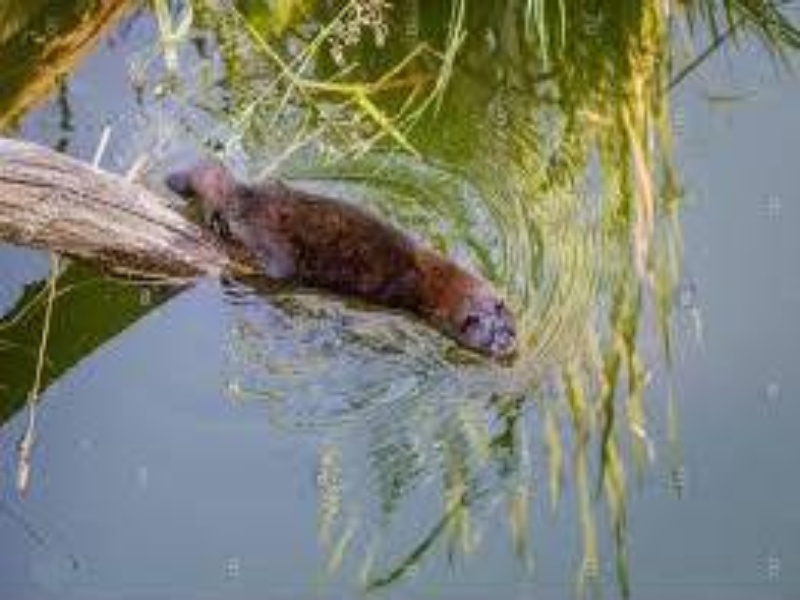minkish: (171, 159, 521, 359)
